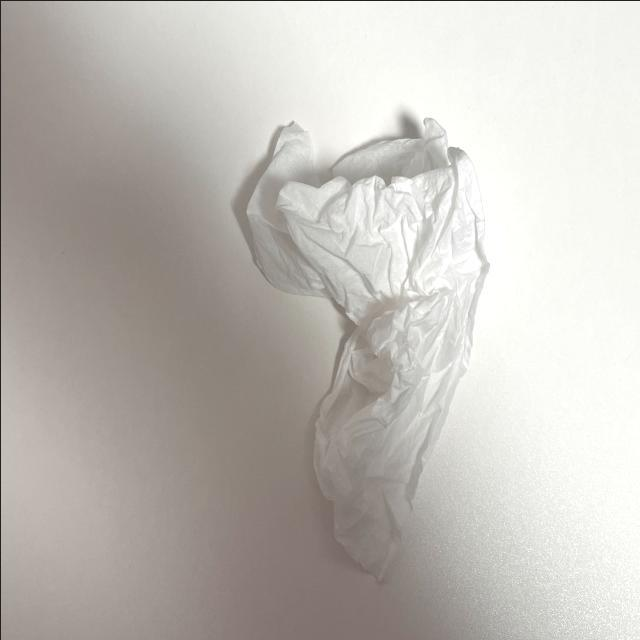Paper: (242, 104, 490, 586)
